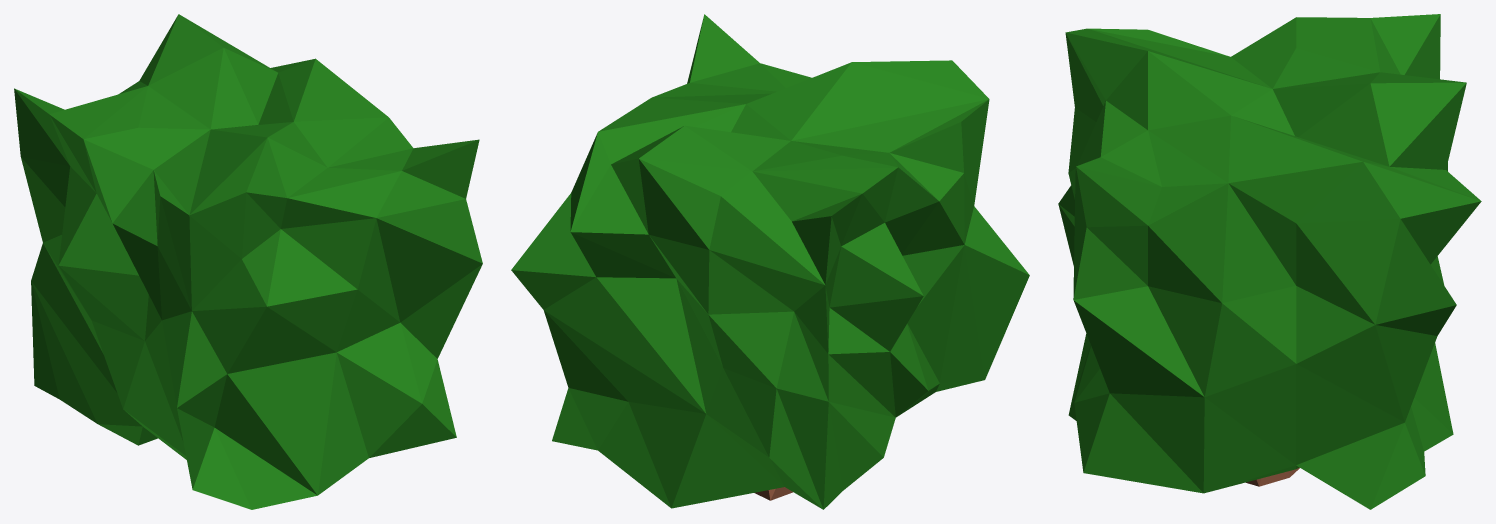
File: bush_7_summer_mat.fbx
3 views of the same model, side by side, from view 1: azimuth 30°, elevation 25°; view 2: azimuth 150°, elevation 25°; view 3: azimuth 270°, elevation 25° (orthographic). The views are drawn at different scales.
Visible parts, largest first — view 1: bush_7_summer_mat; view 2: bush_7_summer_mat; view 3: bush_7_summer_mat.
Part boxes in pixels (x1=…): bush_7_summer_mat: x1=14, y1=14, x2=482, y2=509; bush_7_summer_mat: x1=511, y1=14, x2=1029, y2=509; bush_7_summer_mat: x1=1058, y1=14, x2=1481, y2=509.
Bounding box in the file's own units: 1.9 × 2.09 × 1.98.
